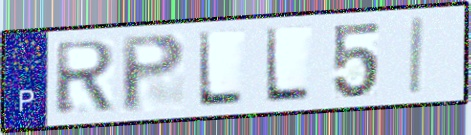5: (329, 19, 382, 100)
I: (406, 14, 428, 98)
L: (195, 30, 247, 110), (262, 25, 313, 105)
P: (118, 30, 189, 115)
R: (51, 37, 119, 118)
